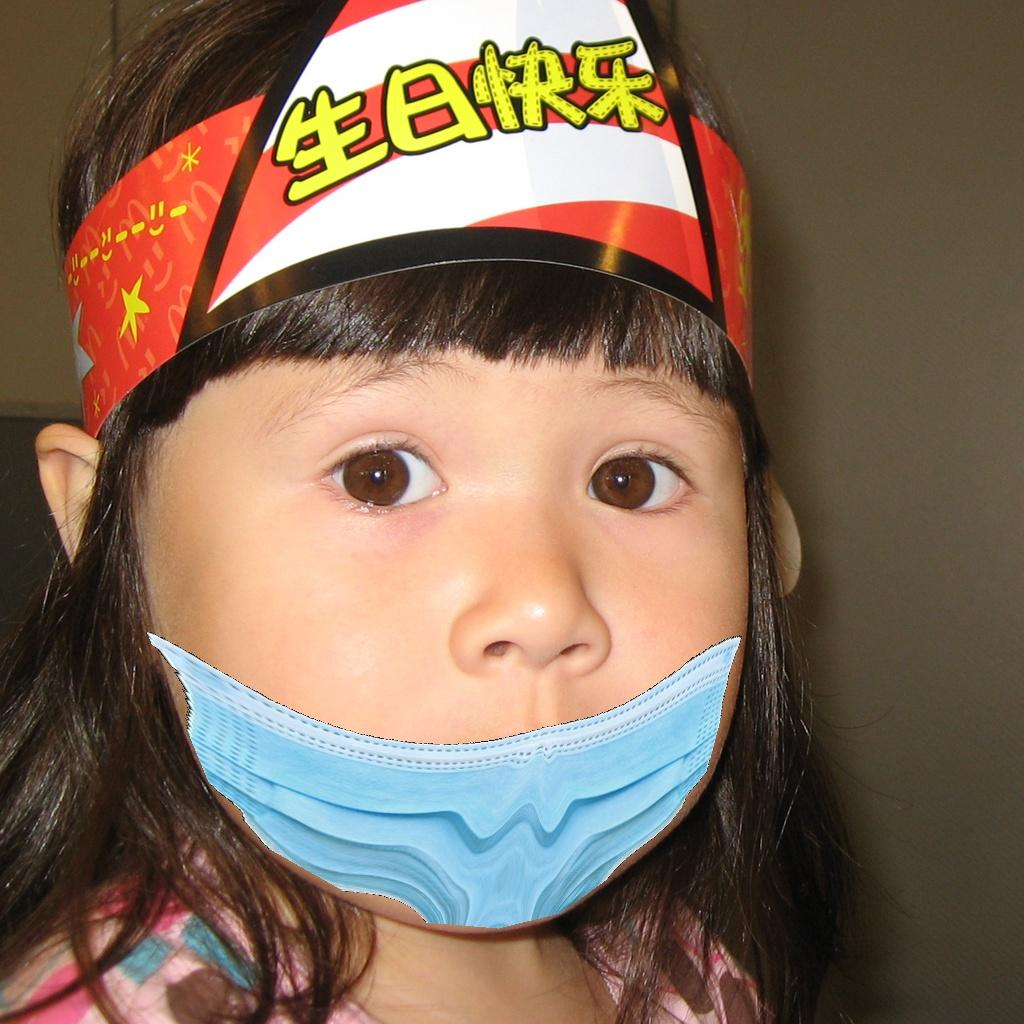Máscara Incorreta: (136, 360, 755, 917)
